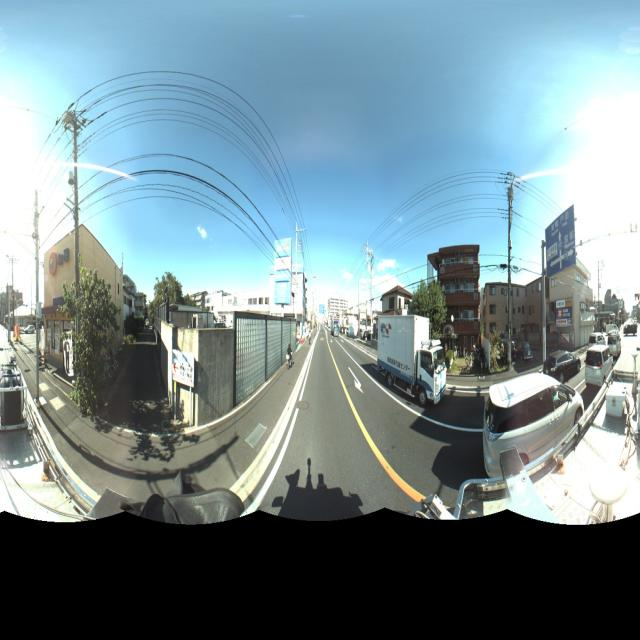b_1: (480, 272, 546, 354), (439, 244, 481, 351), (546, 268, 593, 354)
b_2: (38, 221, 124, 400), (119, 262, 156, 346), (378, 279, 420, 344)
